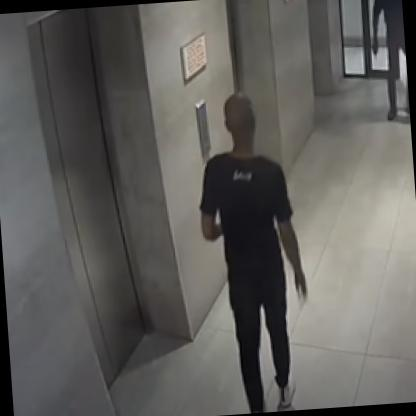Human Body: (192, 85, 318, 414)
